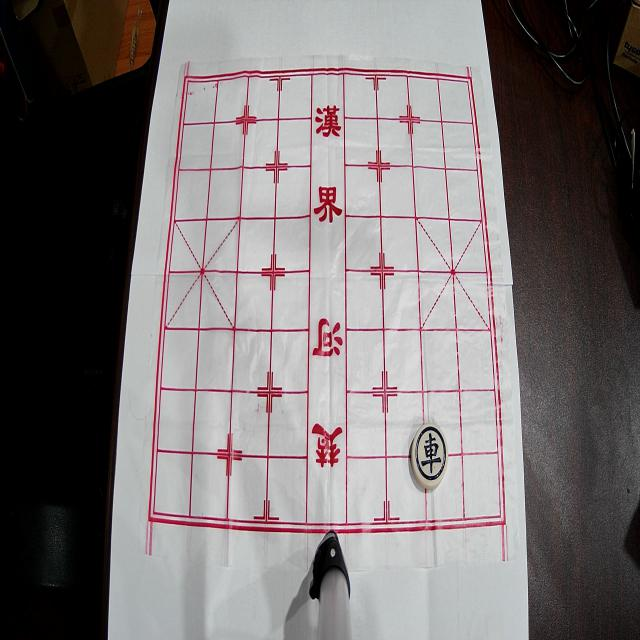black-chariot: (411, 423, 448, 489)
